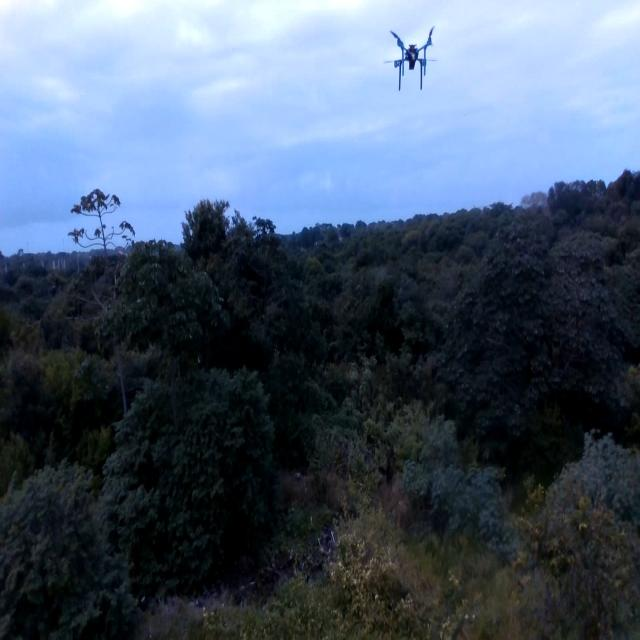-uav-: (375, 8, 445, 110)
